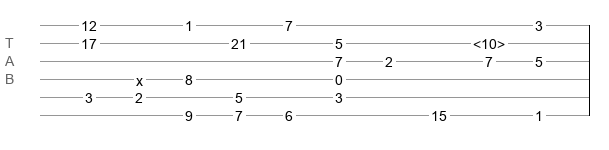0: (335, 72, 343, 82)
1: (185, 18, 193, 28), (535, 108, 543, 118)
12: (81, 18, 97, 28)
15: (431, 108, 447, 118)
17: (81, 36, 97, 46)
2: (135, 90, 143, 100), (385, 54, 393, 64)
21: (231, 36, 247, 46)
3: (85, 90, 93, 100), (335, 90, 343, 100), (535, 18, 543, 28)
5: (235, 90, 243, 100), (335, 36, 343, 46), (535, 54, 543, 64)
6: (285, 108, 293, 118)
7: (235, 108, 243, 118), (285, 18, 293, 28), (335, 54, 343, 64), (485, 54, 493, 64)
8: (185, 72, 193, 82)
9: (185, 108, 193, 118)
harmonic: (473, 36, 505, 46)
x: (136, 73, 143, 81)
